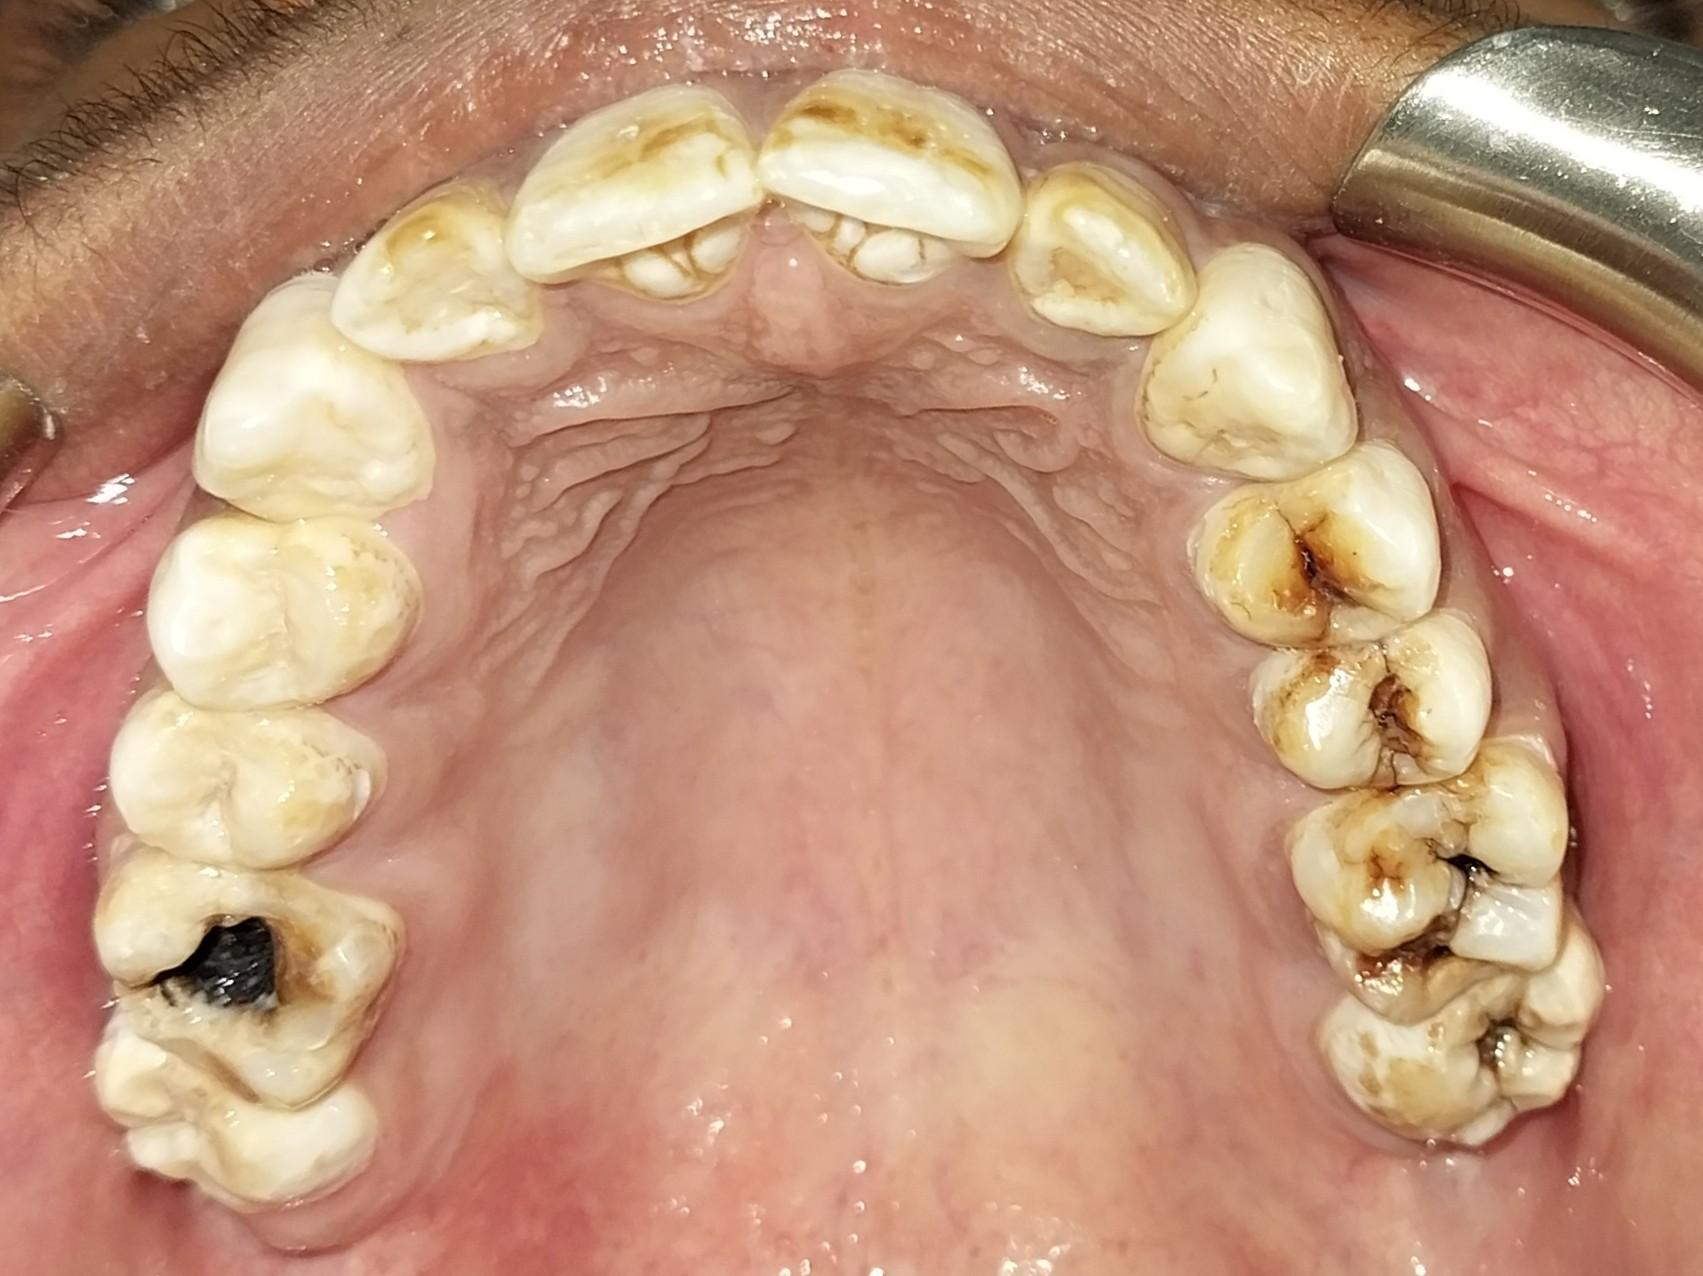D: (71, 849, 402, 1111), (1285, 735, 1580, 1027), (1306, 918, 1613, 1151), (1185, 447, 1445, 646), (1248, 609, 1494, 794)
